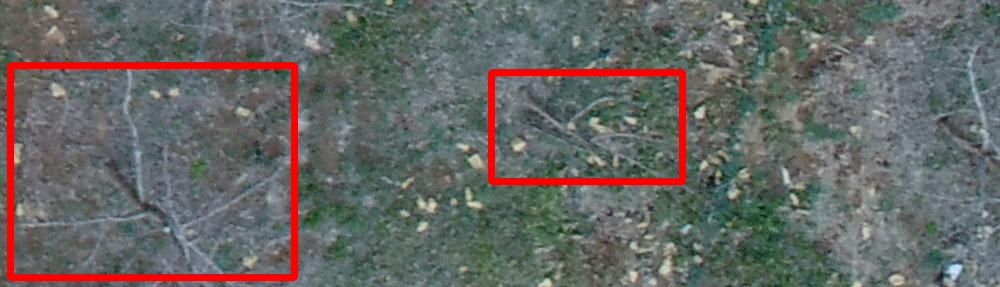apple: (10, 65, 294, 277), (491, 72, 682, 181)
